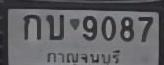0: (100, 15, 115, 40)
7: (137, 16, 152, 41)
8: (119, 16, 133, 41)
9: (82, 15, 96, 40)
A01: (22, 13, 40, 39)
A26: (45, 13, 63, 40)
KRI: (46, 47, 122, 65)
